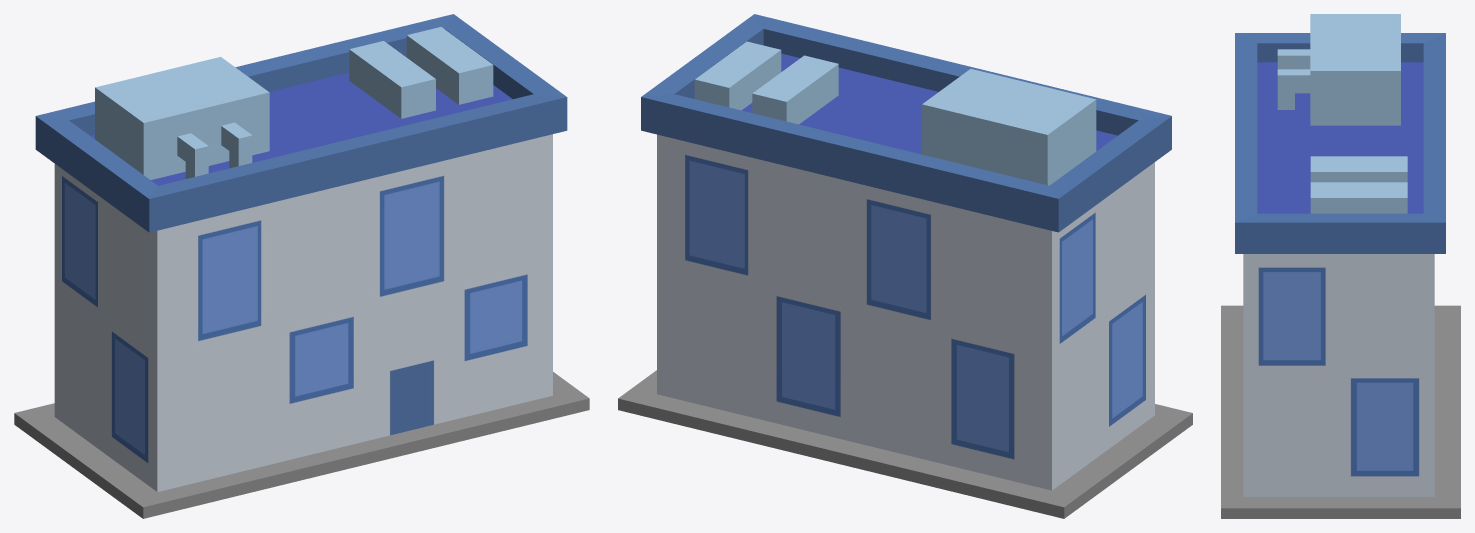
Rendered from Big_Home_4.FBX.
The picture shows the model from 3 angles, left to right: view 1: azimuth 30°, elevation 25°; view 2: azimuth 150°, elevation 25°; view 3: azimuth 270°, elevation 25°; orthographic projection. The views are drawn at different scales.
Parts seen in each view (by area): view 1: Box005, Box002; view 2: Box005, Box002; view 3: Box005, Box002.
Boxes of the visible parts, x1,y1,x2,y2 form: Box005: (35, 14, 567, 491); Box002: (14, 372, 589, 518); Box005: (641, 14, 1171, 490); Box002: (618, 370, 1192, 518); Box005: (1235, 14, 1445, 496); Box002: (1221, 305, 1460, 518).
Size of the model in its own units: 2 by 1.49 by 1.
Materials: 5 (4 with a texture image).
